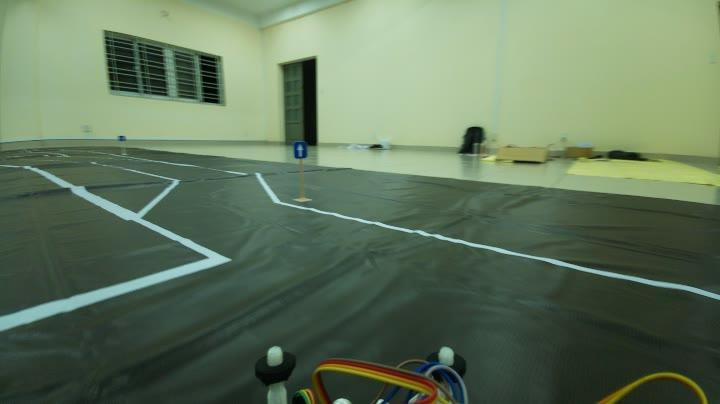onewayroad: (288, 138, 312, 162)
